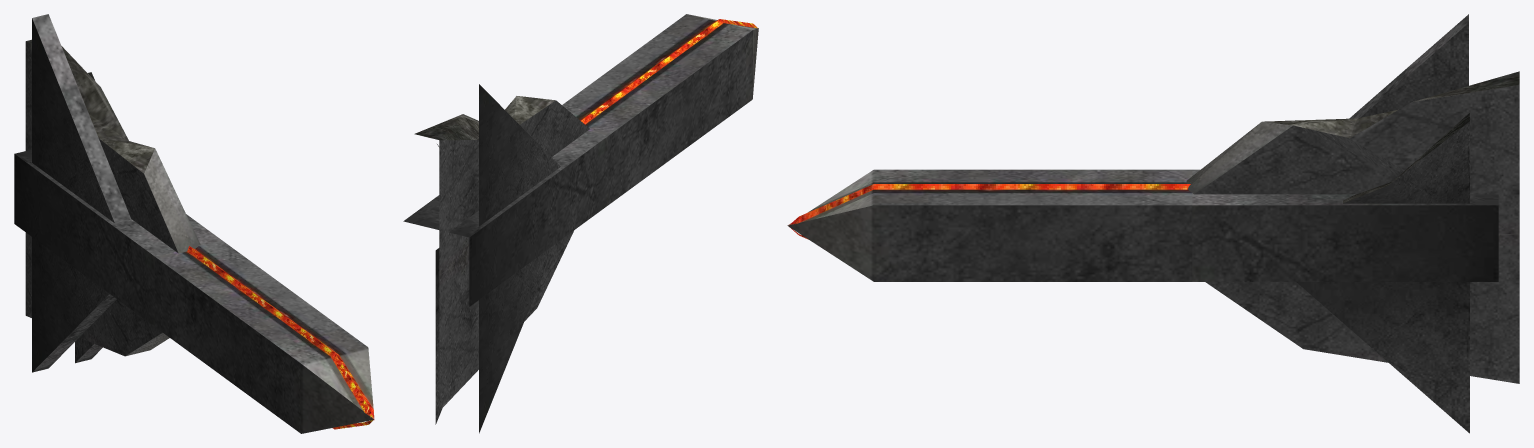
The picture shows the model from 3 angles, left to right: view 1: azimuth 30°, elevation 25°; view 2: azimuth 150°, elevation 25°; view 3: azimuth 270°, elevation 25°; orthographic projection. The views are drawn at different scales.
Parts seen in each view (by area): view 1: model_Object15; view 2: model_Object15; view 3: model_Object15.
Boxes of the visible parts, x1,y1,x2,y2 form: model_Object15: (14,14,374,433); model_Object15: (403,14,758,433); model_Object15: (787,14,1519,433).
Bounding box in the file's own units: 0.6925 × 3.51 × 6.01.
2 materials, 2 textured.
